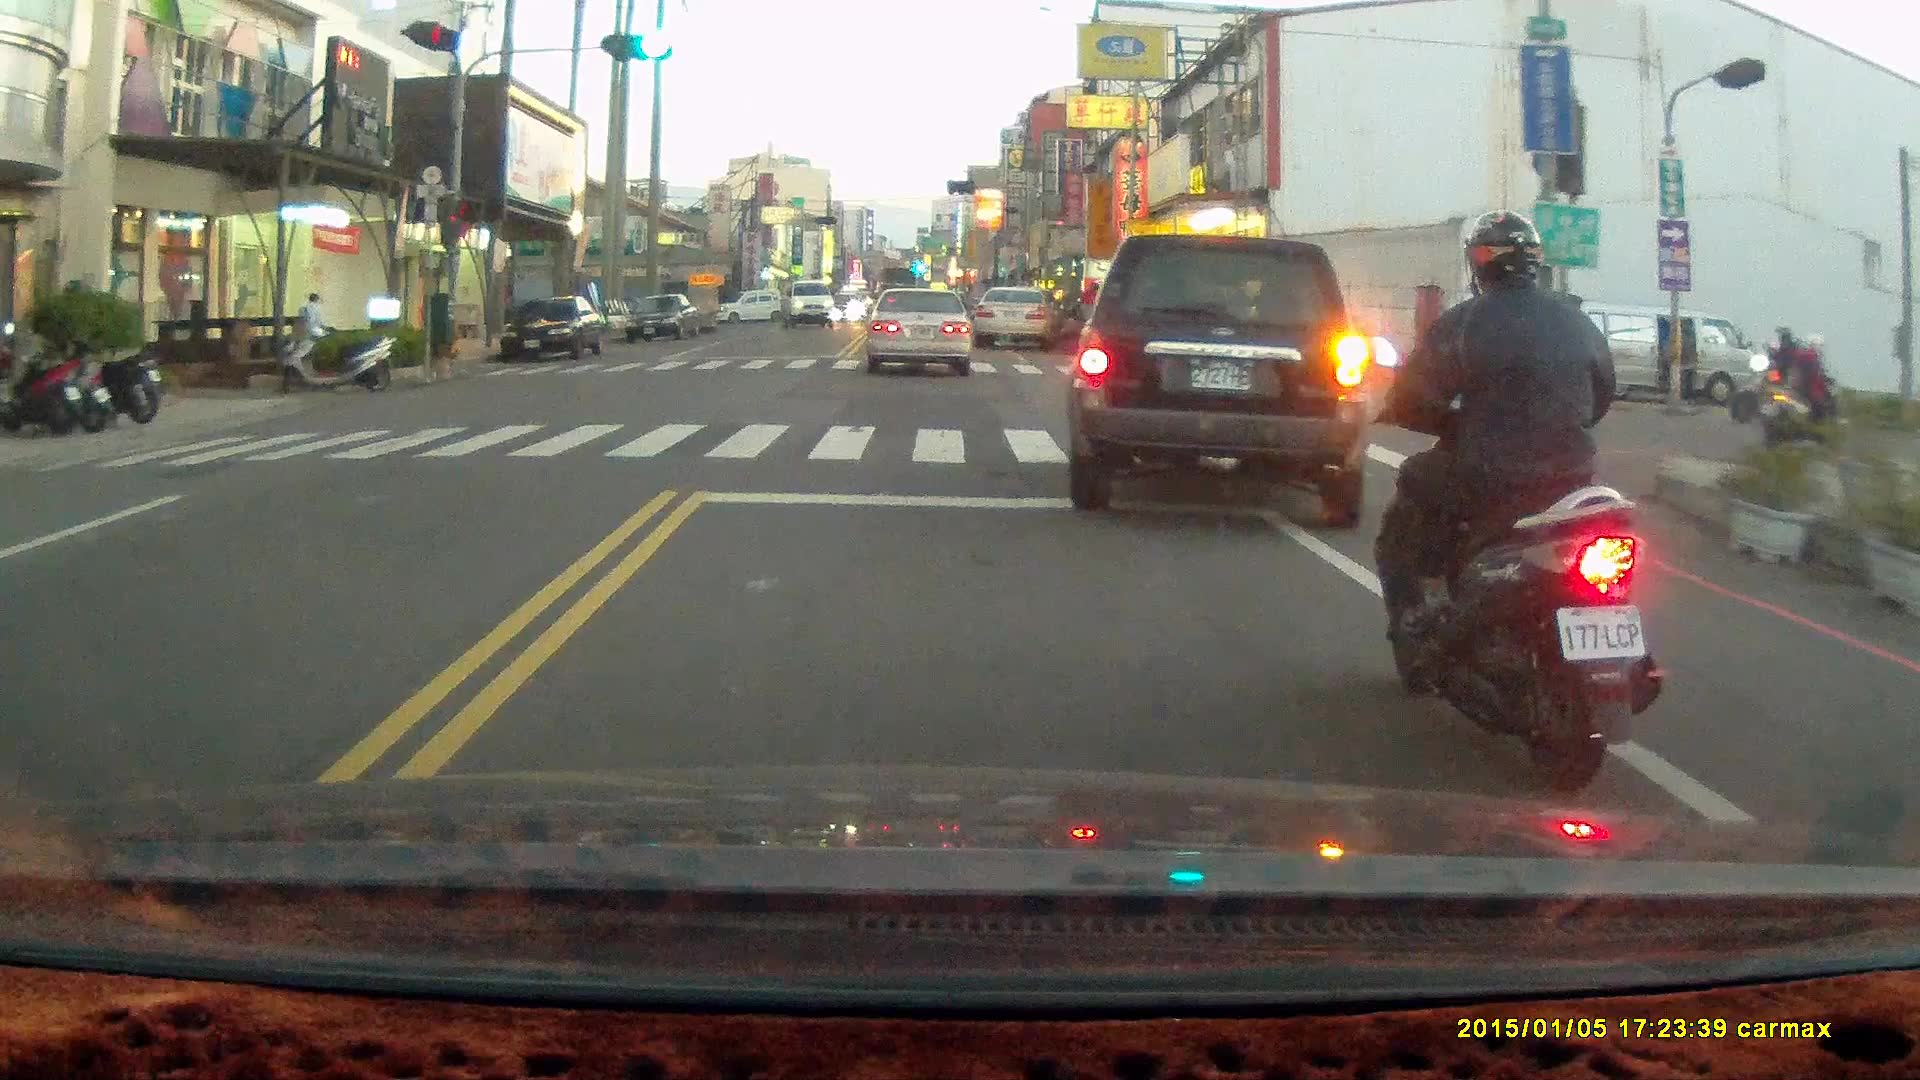pedestrian: (298, 291, 331, 356), (1674, 320, 1697, 400)
rider: (1358, 210, 1664, 794), (1763, 332, 1847, 462), (1732, 323, 1816, 428)
vehicle: (1067, 232, 1375, 526), (1555, 303, 1779, 411), (866, 292, 979, 384), (504, 298, 602, 367), (970, 283, 1058, 359), (626, 296, 704, 348), (781, 280, 839, 334)
